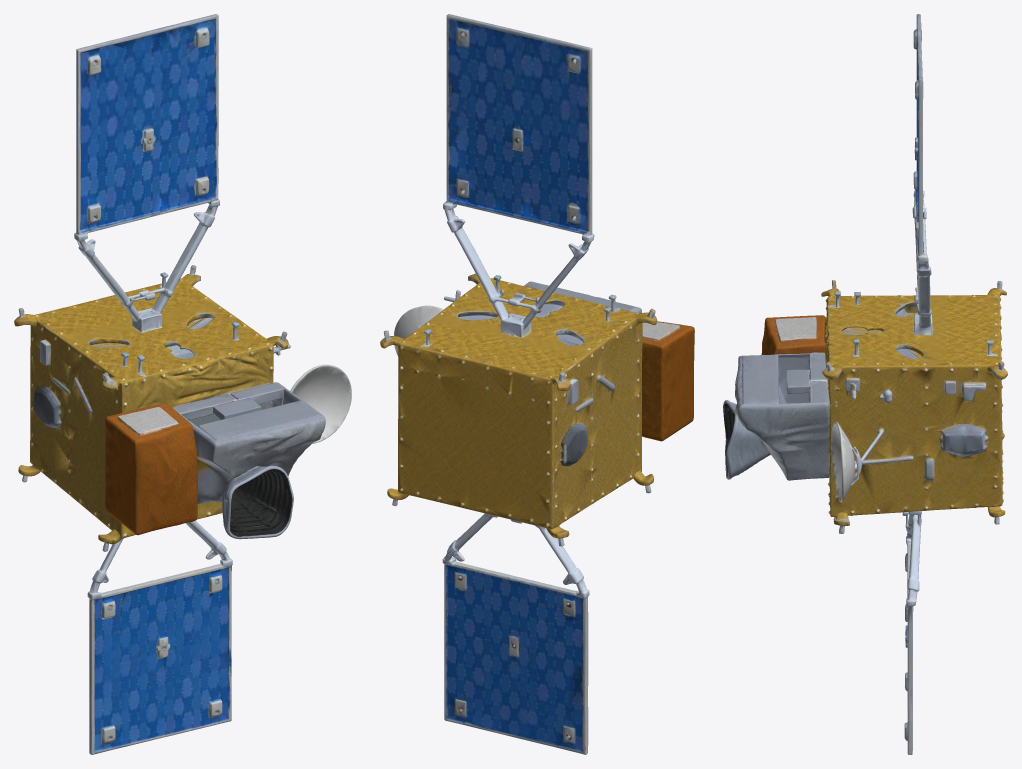
Rendered from sentinel4.glb.
The picture shows the model from 3 angles, left to right: view 1: azimuth 30°, elevation 25°; view 2: azimuth 150°, elevation 25°; view 3: azimuth 270°, elevation 25°; orthographic projection. The views are drawn at different scales.
Bounding box in the file's own units: 0.729 × 1.9 × 0.7307.
1 material, 1 textured.
